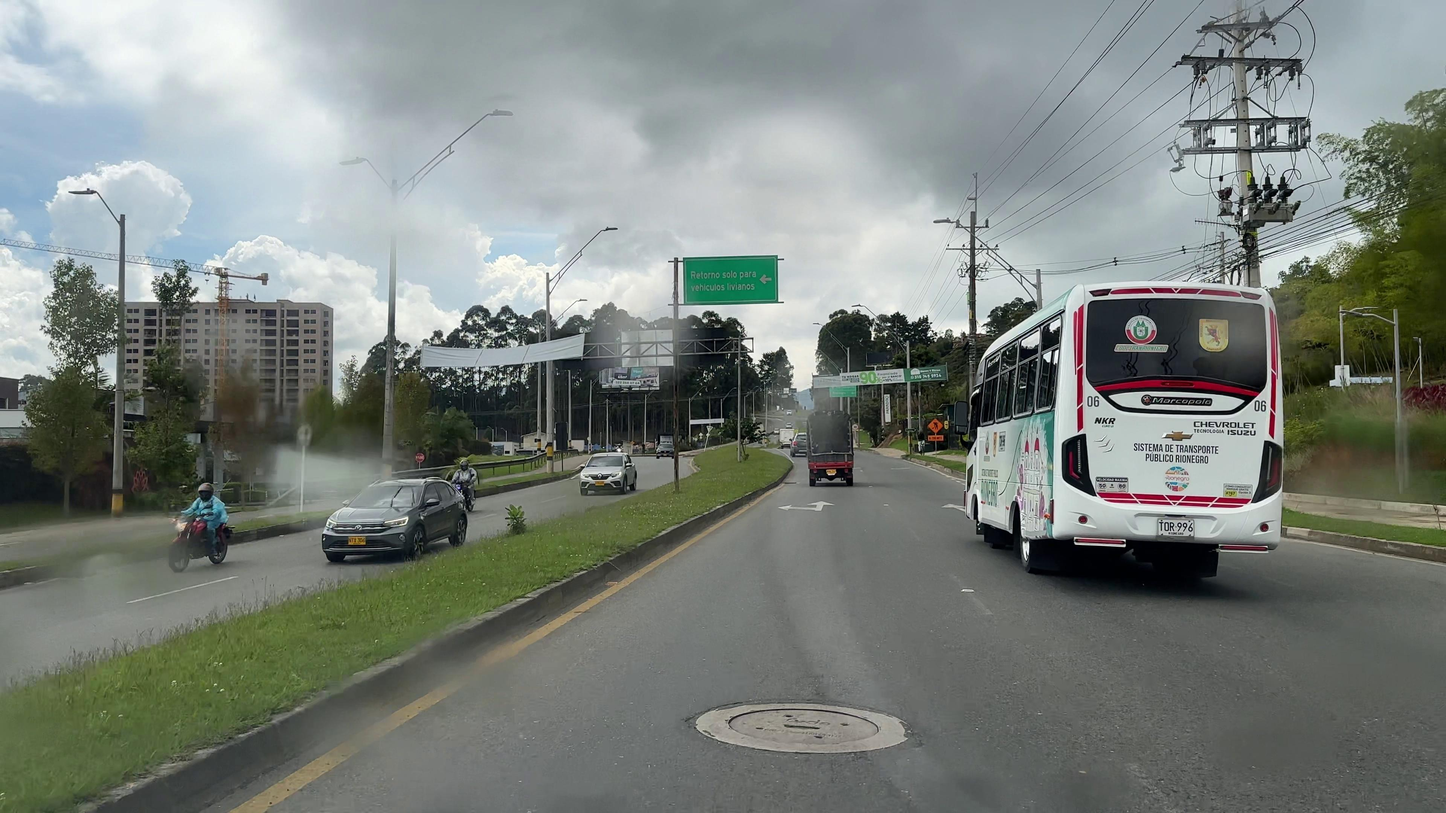registro: (728, 708, 878, 744)
